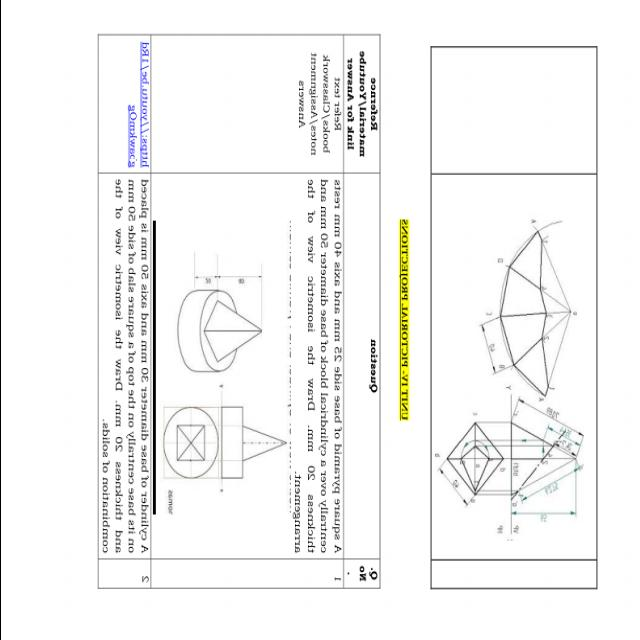Drawings: (434, 382, 587, 550), (471, 197, 582, 412), (160, 377, 290, 505), (162, 247, 280, 376)
